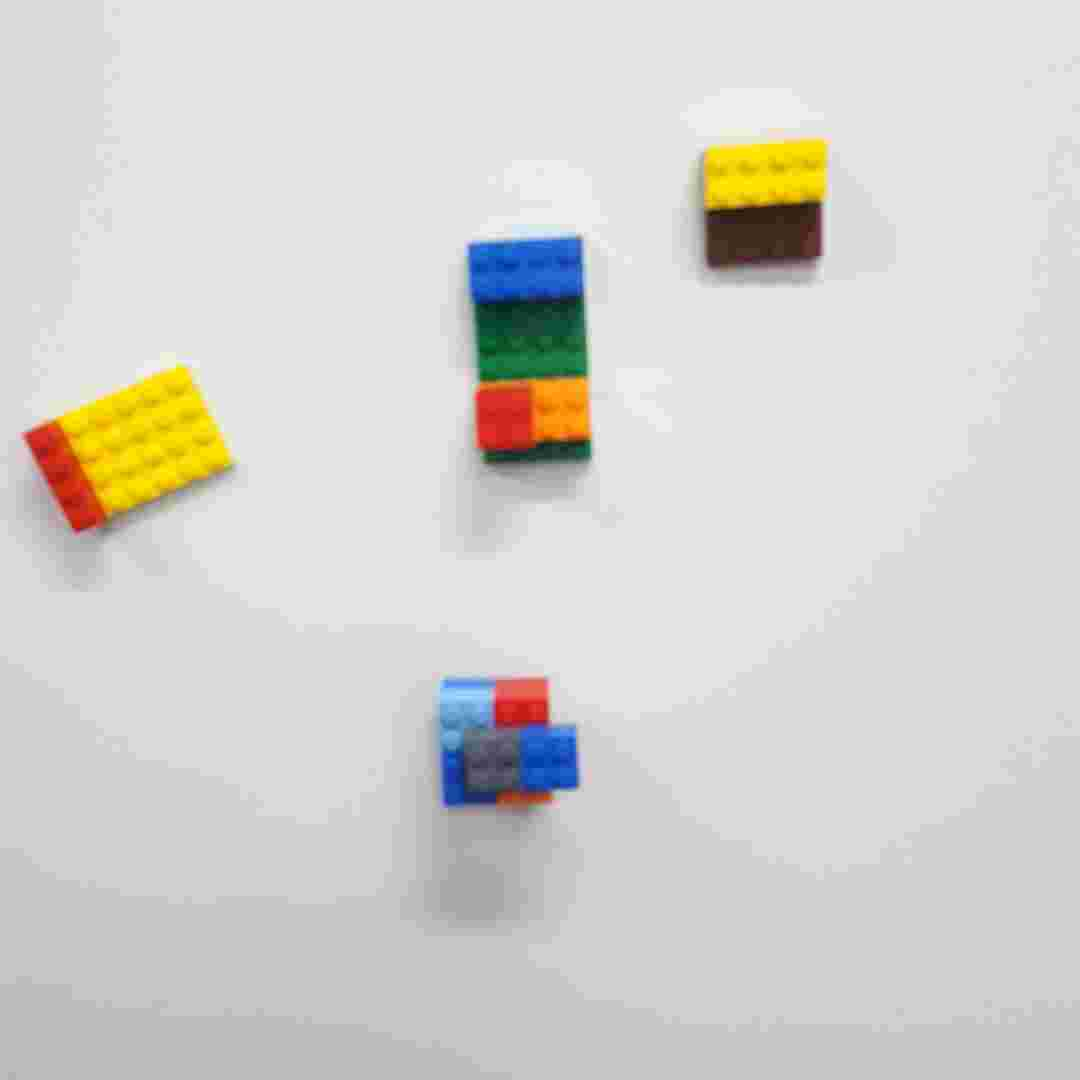LEGO: (11, 354, 249, 543), (466, 229, 601, 479), (435, 675, 586, 815), (691, 135, 835, 275)
